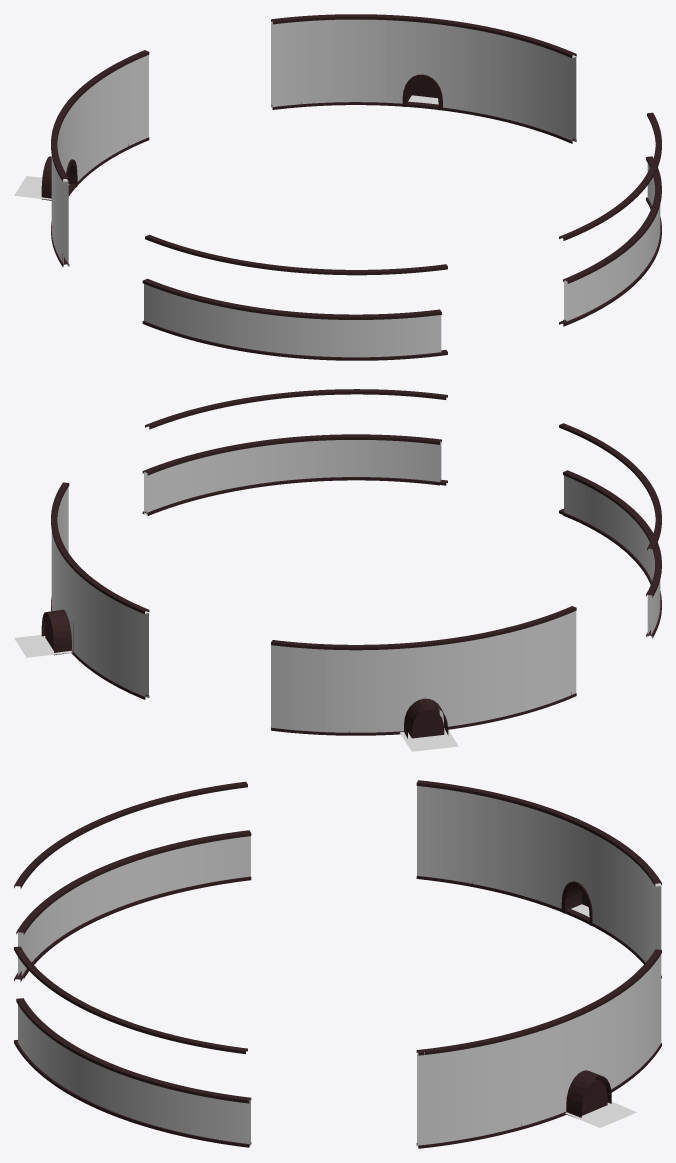
File: Paredes_Redondas 1.fbx
The picture shows the model from 3 angles, top to bottom: view 1: azimuth 30°, elevation 25°; view 2: azimuth 150°, elevation 25°; view 3: azimuth 270°, elevation 25°; orthographic projection. The views are drawn at different scales.
Visible parts, largest first — view 1: Cube.009, Paredes_Medias_En_Circulo.002, Cube.010, Paredes_Medias_En_Circulo.004; view 2: Cube.010, Paredes_Medias_En_Circulo.004, Cube.009, Paredes_Medias_En_Circulo.002; view 3: Cube.009, Cube.010, Paredes_Medias_En_Circulo.004, Paredes_Medias_En_Circulo.002.
Part boxes in pixels (bbox=[...]): Cube.009: bbox=[271, 14, 576, 143]; Paredes_Medias_En_Circulo.002: bbox=[142, 234, 447, 360]; Cube.010: bbox=[14, 50, 149, 266]; Paredes_Medias_En_Circulo.004: bbox=[559, 112, 661, 326]; Cube.010: bbox=[271, 606, 576, 751]; Paredes_Medias_En_Circulo.004: bbox=[142, 389, 447, 515]; Cube.009: bbox=[14, 482, 149, 699]; Paredes_Medias_En_Circulo.002: bbox=[559, 423, 661, 638]; Cube.009: bbox=[416, 949, 661, 1148]; Cube.010: bbox=[416, 780, 661, 978]; Paredes_Medias_En_Circulo.004: bbox=[14, 946, 251, 1147]; Paredes_Medias_En_Circulo.002: bbox=[14, 781, 251, 981].
Bounding box in the file's own units: 12186 × 2000 × 12239.
